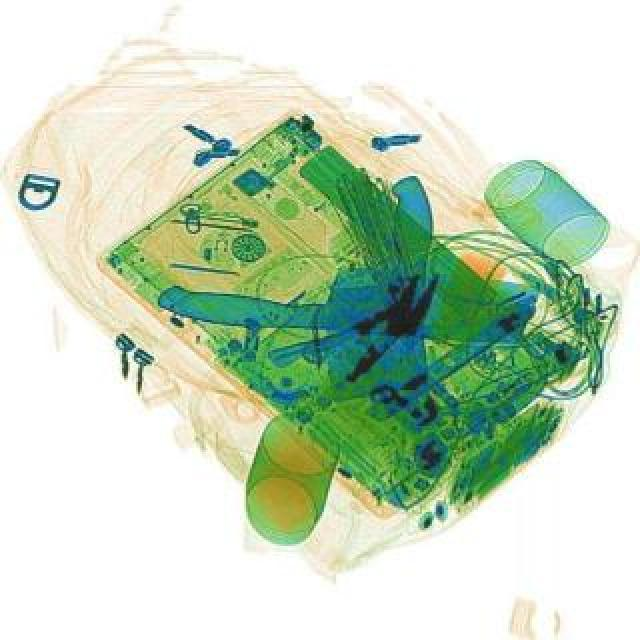knife: (154, 256, 538, 348), (320, 180, 432, 404)
